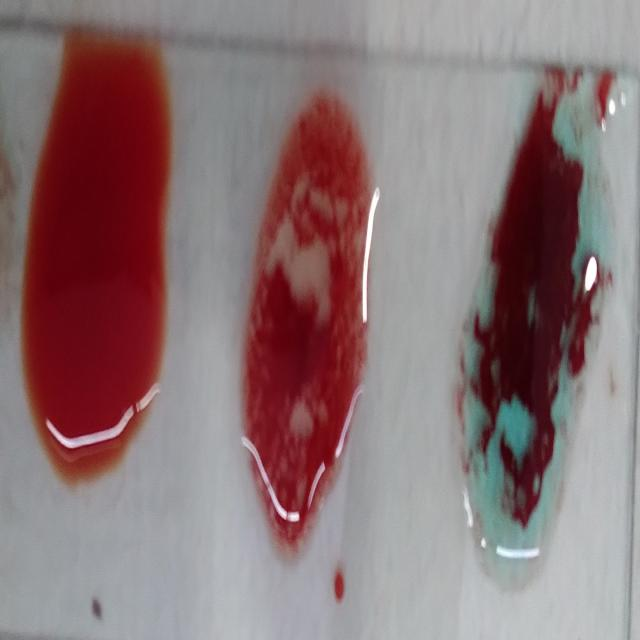A: (460, 72, 611, 573)
D: (245, 90, 368, 549)
